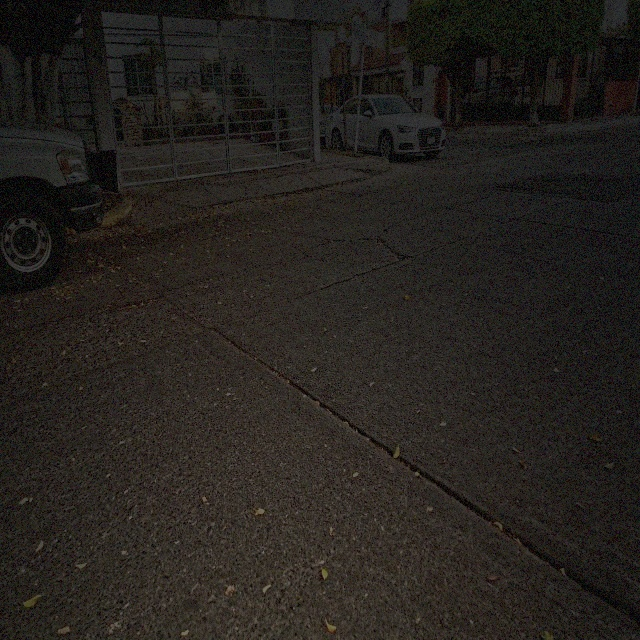pothole: (377, 238, 402, 260), (546, 175, 572, 188)
